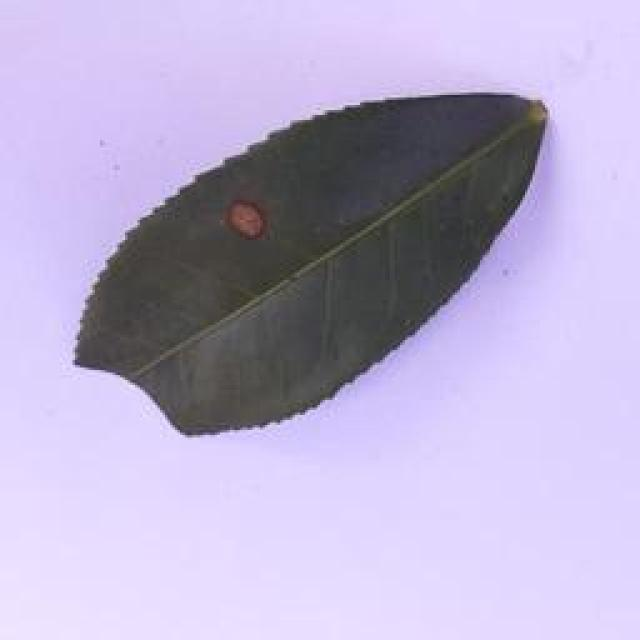Gray Blight: (69, 86, 556, 446)
